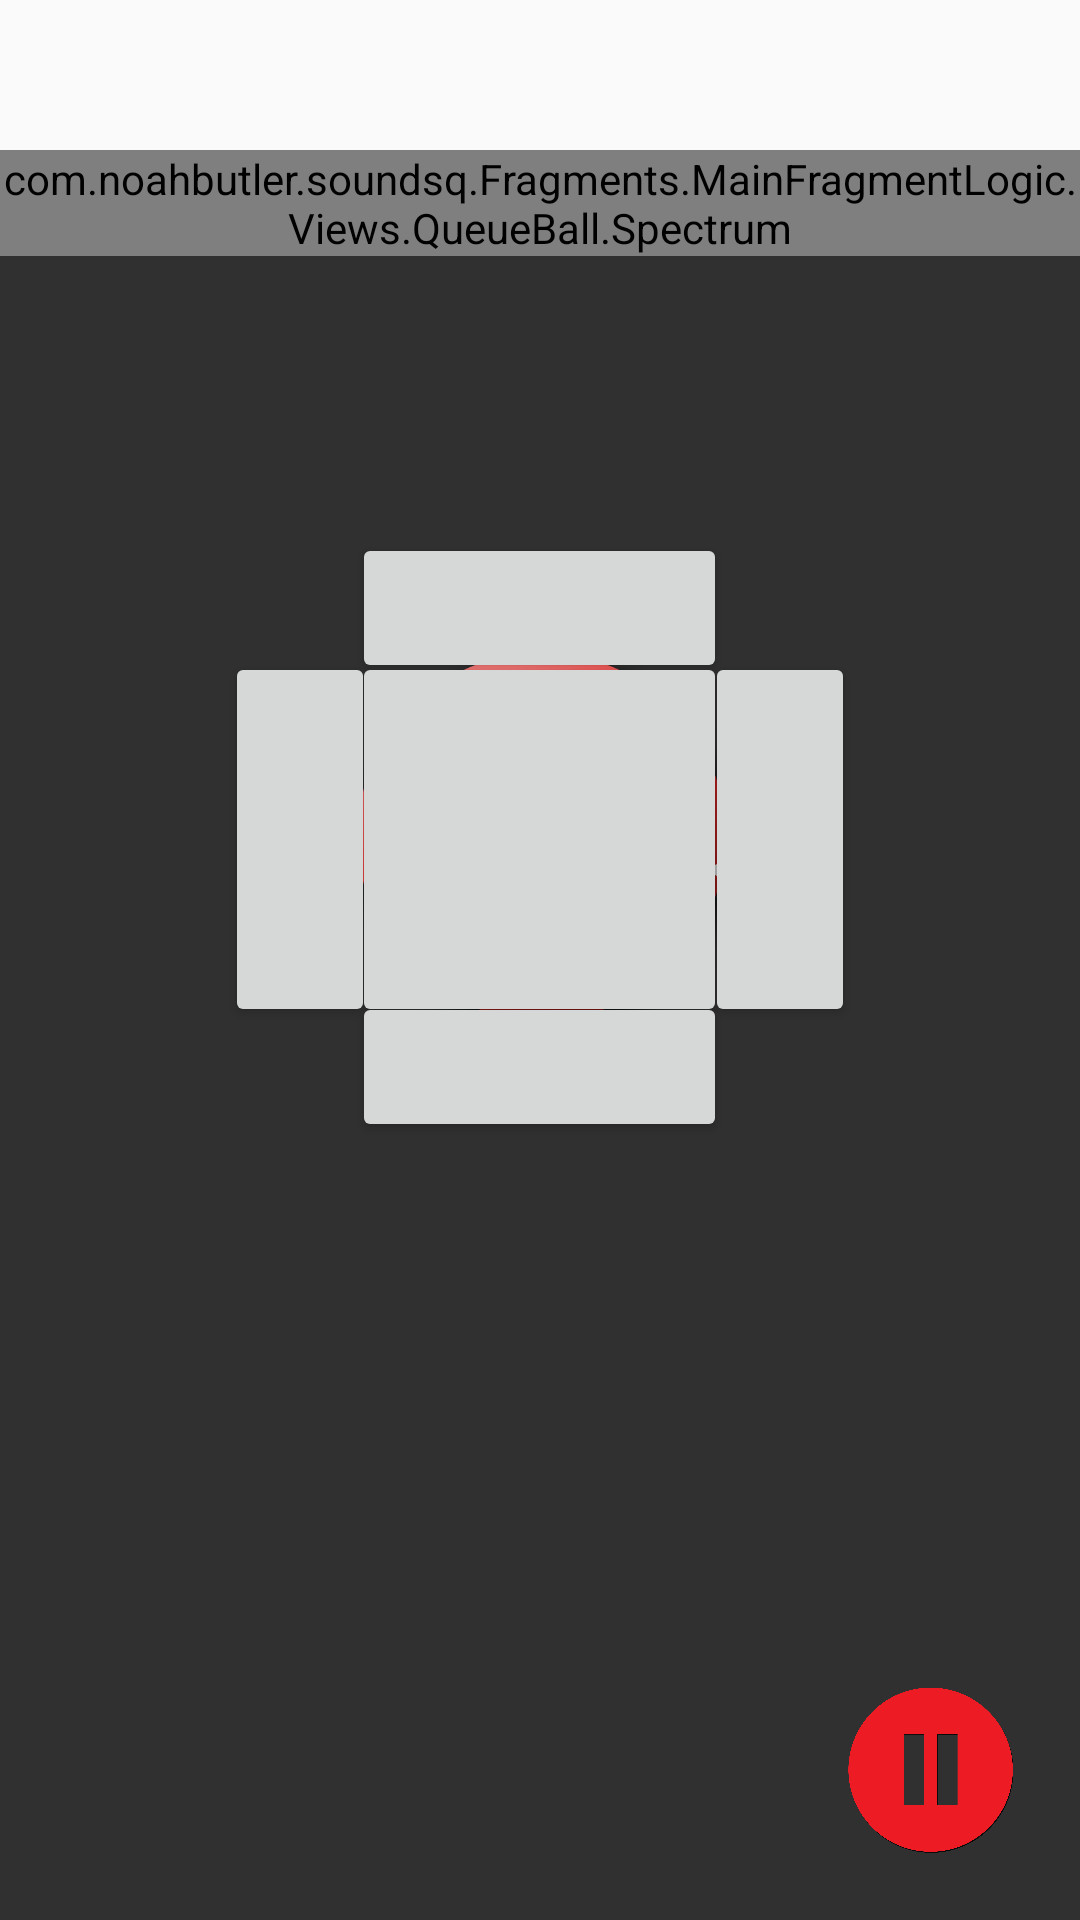

Point at icon controls on the screen. Image size 1080w x 1920h, points as (x,y).
pause: (930,1770)
